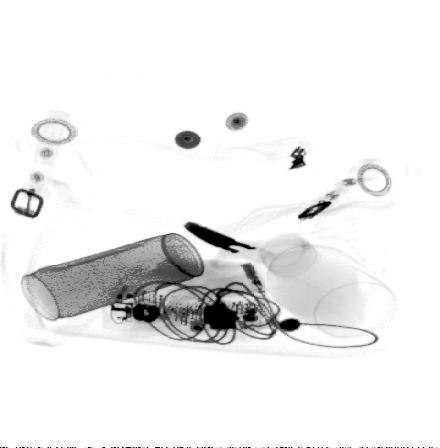Scissors: (181, 221, 284, 275)
